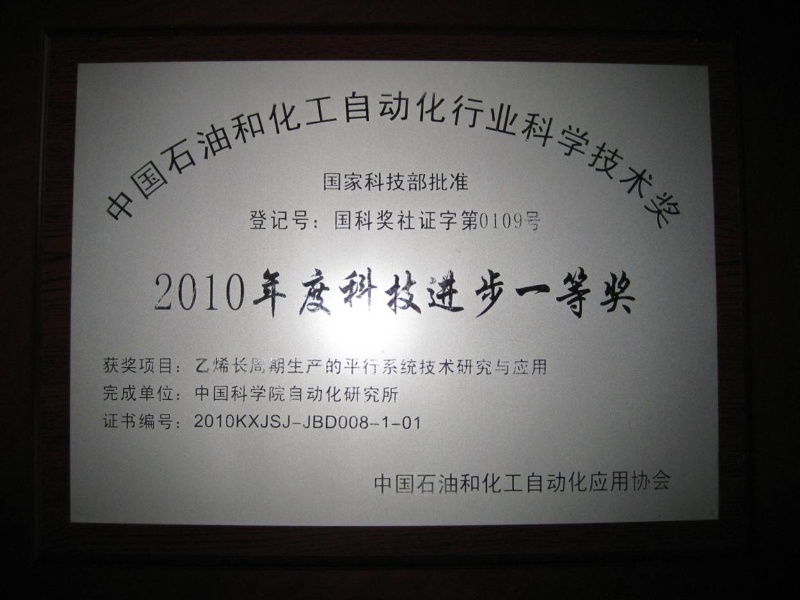text: (113, 89, 128, 230), (129, 89, 144, 230), (145, 89, 160, 230), (161, 89, 176, 230), (177, 89, 192, 230), (193, 89, 208, 230), (209, 89, 224, 230), (225, 89, 240, 230), (241, 89, 256, 230), (257, 89, 272, 230), (273, 89, 288, 230), (289, 89, 304, 230), (305, 89, 320, 230), (321, 89, 336, 230), (337, 89, 352, 230), (353, 89, 368, 230), (369, 89, 384, 230), (385, 89, 400, 230), (401, 89, 416, 230), (417, 89, 432, 230), (433, 89, 448, 230), (449, 89, 464, 230), (465, 89, 480, 230), (481, 89, 496, 230), (497, 89, 512, 230), (513, 89, 528, 230), (529, 89, 544, 230), (545, 89, 560, 230), (561, 89, 576, 230), (577, 89, 592, 230), (593, 89, 608, 230), (609, 89, 624, 230), (625, 89, 640, 230), (641, 89, 656, 230), (657, 89, 672, 230), (673, 89, 682, 230), (104, 89, 112, 230), (161, 267, 176, 318), (177, 267, 192, 318), (193, 267, 208, 318), (209, 267, 224, 318), (225, 267, 240, 318), (241, 267, 256, 318), (257, 267, 272, 318), (273, 267, 288, 318), (289, 267, 304, 318), (305, 267, 320, 318), (321, 267, 336, 318), (337, 267, 352, 318), (353, 267, 368, 318), (369, 267, 384, 318), (385, 267, 400, 318), (401, 267, 416, 318), (417, 267, 432, 318), (433, 267, 448, 318), (449, 267, 464, 318), (465, 267, 480, 318), (481, 267, 496, 318), (497, 267, 512, 318), (513, 267, 528, 318), (529, 267, 544, 318), (545, 267, 560, 318), (561, 267, 576, 318), (577, 267, 592, 318), (593, 267, 608, 318), (609, 267, 624, 318), (625, 267, 639, 318), (152, 267, 160, 318), (385, 469, 400, 495), (401, 469, 416, 495), (417, 469, 432, 495), (433, 469, 448, 495), (449, 469, 464, 495), (465, 469, 480, 495), (481, 469, 496, 495), (497, 469, 512, 495), (513, 469, 528, 495), (529, 469, 544, 495), (545, 469, 560, 495), (561, 469, 576, 495), (577, 469, 592, 495), (593, 469, 608, 495), (609, 469, 624, 495), (625, 469, 640, 495), (641, 469, 656, 495), (657, 469, 672, 495), (257, 208, 272, 231), (273, 208, 288, 231), (289, 208, 304, 231), (305, 208, 320, 231), (321, 208, 336, 231), (337, 208, 352, 231), (353, 208, 368, 231), (369, 208, 384, 231), (385, 208, 400, 231), (401, 208, 416, 231), (417, 208, 432, 231), (433, 208, 448, 231), (449, 208, 464, 231), (465, 208, 480, 231), (481, 208, 496, 231), (497, 208, 512, 231), (513, 208, 528, 231), (529, 208, 543, 231), (337, 172, 352, 193), (353, 172, 368, 193), (369, 172, 384, 193), (385, 172, 400, 193), (401, 172, 416, 193), (417, 172, 432, 193), (433, 172, 448, 193), (449, 172, 464, 193), (113, 357, 128, 377), (129, 357, 144, 377), (145, 357, 160, 377), (161, 357, 176, 377), (177, 357, 192, 377), (193, 357, 208, 377), (209, 357, 224, 377), (225, 357, 240, 377), (241, 357, 256, 377), (257, 357, 272, 377), (273, 357, 288, 377), (289, 357, 304, 377), (305, 357, 320, 377), (321, 357, 336, 377), (337, 357, 352, 377), (353, 357, 368, 377), (369, 357, 384, 377), (385, 357, 400, 377), (401, 357, 416, 377), (417, 357, 432, 377), (433, 357, 448, 377), (449, 357, 464, 377), (465, 357, 480, 377), (481, 357, 496, 377), (497, 357, 512, 377), (513, 357, 528, 377), (529, 357, 544, 377), (113, 384, 128, 403), (129, 384, 144, 403), (145, 384, 160, 403), (161, 384, 176, 403), (177, 384, 192, 403), (193, 384, 208, 403), (209, 384, 224, 403), (225, 384, 240, 403), (241, 384, 256, 403), (257, 384, 272, 403), (273, 384, 288, 403), (289, 384, 304, 403), (305, 384, 320, 403), (321, 384, 336, 403), (337, 384, 352, 403), (353, 384, 368, 403), (369, 384, 384, 403), (385, 384, 400, 403), (113, 411, 128, 430), (129, 411, 144, 430), (145, 411, 160, 430), (161, 411, 176, 430), (177, 411, 192, 430), (193, 411, 208, 430), (209, 411, 224, 430), (225, 411, 240, 430), (241, 411, 256, 430), (257, 411, 272, 430), (273, 411, 288, 430), (289, 411, 304, 430), (305, 411, 320, 430), (321, 411, 336, 430), (337, 411, 352, 430), (353, 411, 368, 430), (369, 411, 384, 430), (385, 411, 400, 430), (401, 411, 416, 430), (98, 357, 112, 377), (323, 172, 336, 193), (374, 469, 384, 495), (99, 384, 112, 403), (248, 208, 256, 231), (103, 411, 112, 430), (545, 357, 551, 377), (465, 172, 470, 193), (417, 411, 420, 430), (673, 469, 675, 495), (401, 384, 402, 403)
